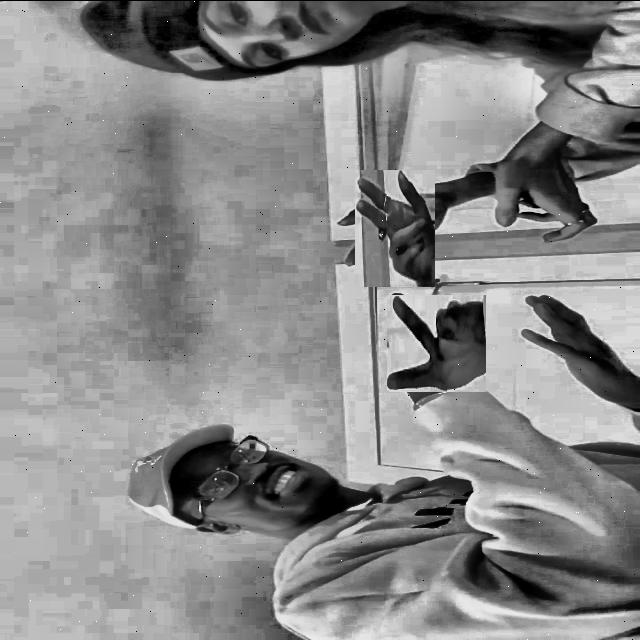not-gloved: (388, 293, 486, 392), (346, 178, 444, 277)
